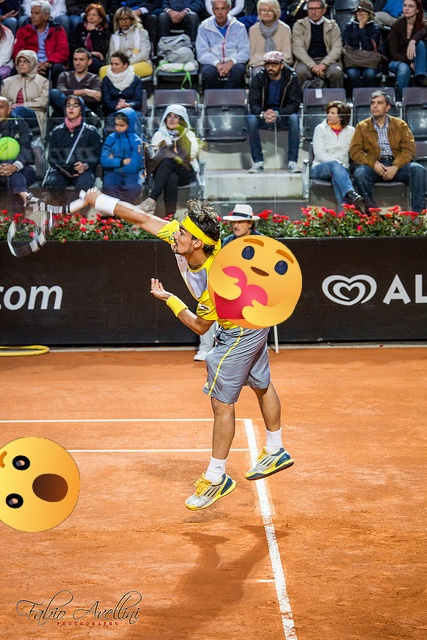care: (208, 235, 302, 329)
wow: (0, 437, 80, 532)
